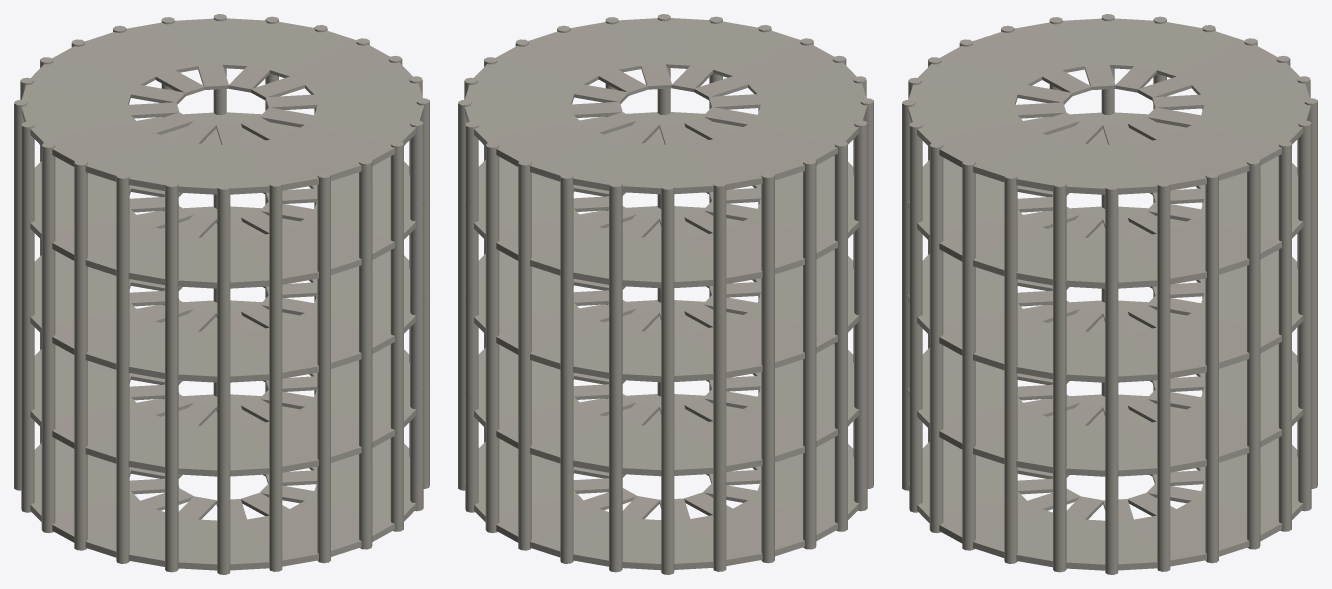
File: cylindrical_support.fbx
3 views of the same model, side by side, from view 1: azimuth 30°, elevation 25°; view 2: azimuth 150°, elevation 25°; view 3: azimuth 270°, elevation 25° (orthographic).
Visible parts, largest first — view 1: cylindrical_support; view 2: cylindrical_support; view 3: cylindrical_support.
Boxes of the visible parts, box(x1,y1,x2,y2) form: cylindrical_support: box(14, 14, 429, 574); cylindrical_support: box(458, 14, 873, 574); cylindrical_support: box(902, 14, 1317, 574).
Bounding box in the file's own units: 332 × 340 × 332.
